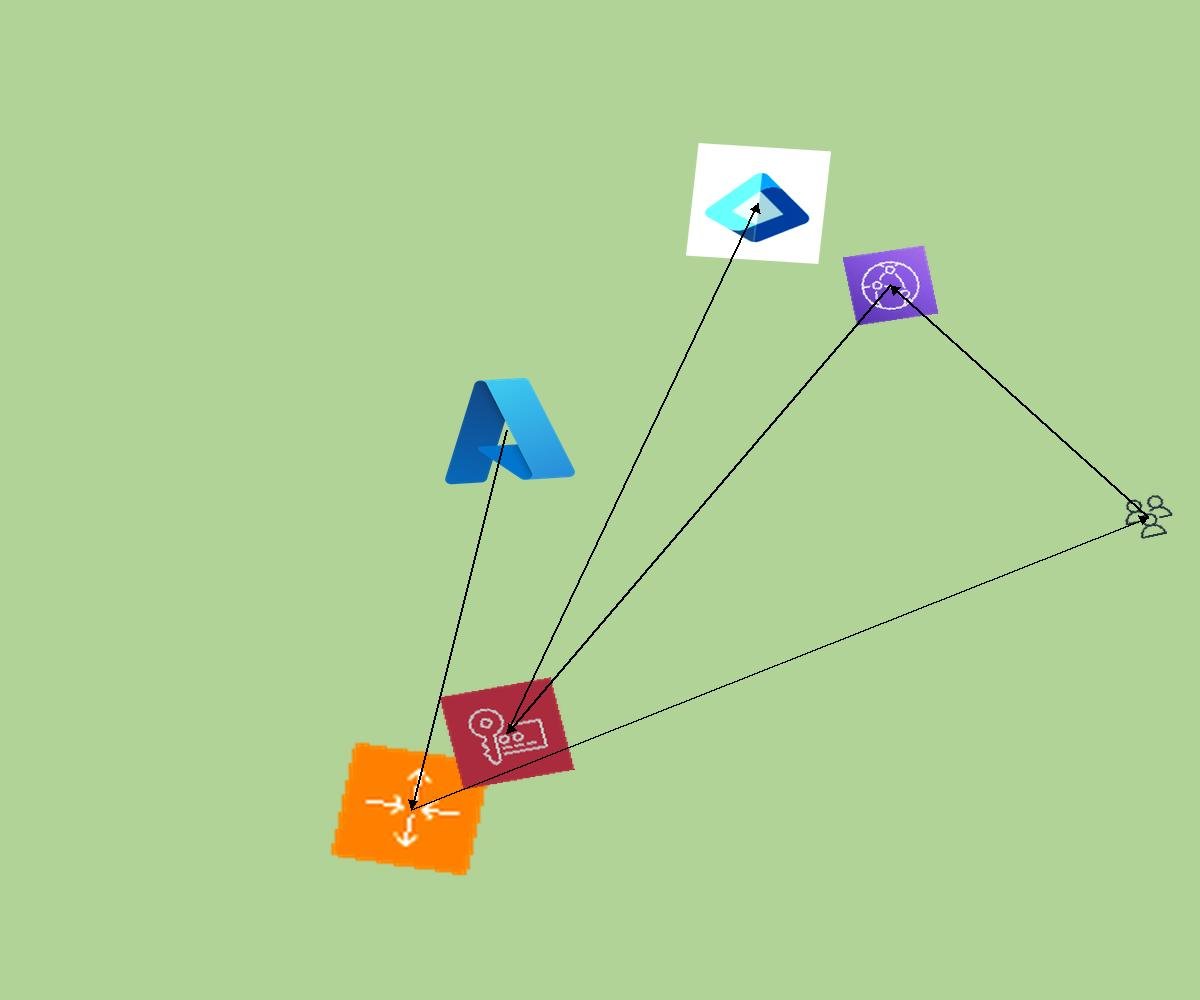AWS-CloudFront: (842, 245, 939, 326)
AWS-Key-Management-Service: (439, 677, 575, 790)
AWS-Res_Users: (1116, 490, 1181, 544)
AWS-Scaling-group: (328, 740, 494, 878)
Azure_microsoft_entra: (686, 143, 831, 264)
Azure_services: (430, 367, 582, 493)
